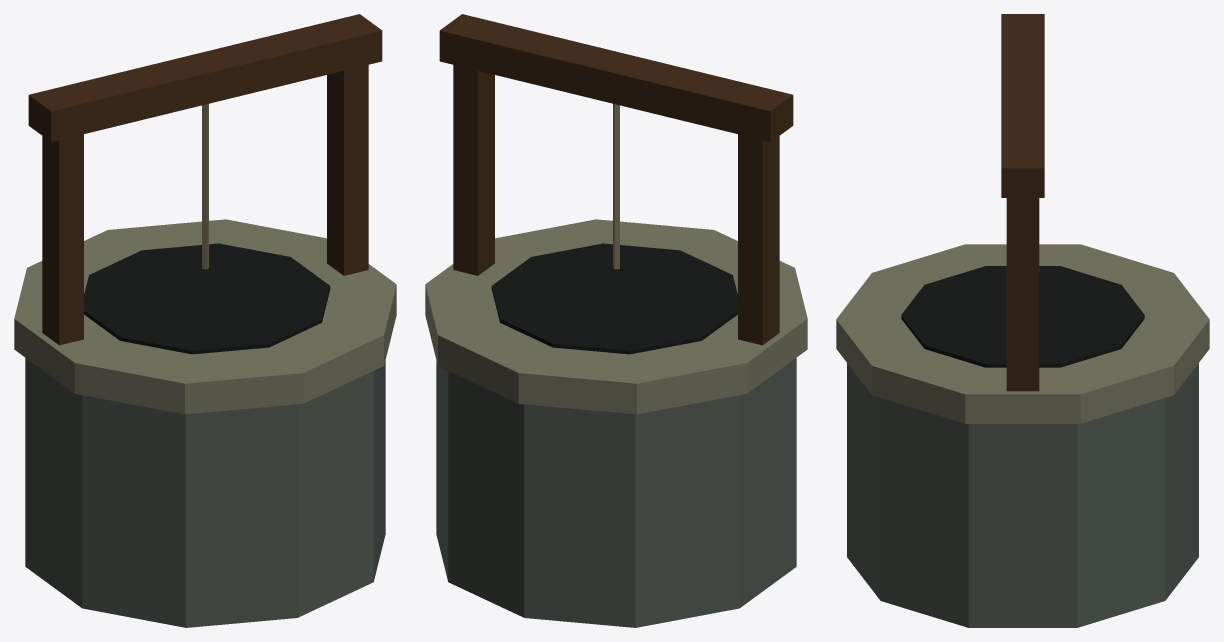
Rendered from SM_ENV_Village_04_Well.glb.
3 renders of one model, left to right at view 1: azimuth 30°, elevation 25°; view 2: azimuth 150°, elevation 25°; view 3: azimuth 270°, elevation 25°, orthographic. The views are drawn at different scales.
Visible parts, largest first — view 1: SM_ENV_Village_04_Well; view 2: SM_ENV_Village_04_Well; view 3: SM_ENV_Village_04_Well.
Part boxes in pixels (box(x1,y1,x2,y2)): SM_ENV_Village_04_Well: box(14, 14, 396, 627); SM_ENV_Village_04_Well: box(425, 14, 807, 627); SM_ENV_Village_04_Well: box(836, 14, 1209, 627).
Bounding box in the file's own units: 1.35 × 1.9 × 1.38.
